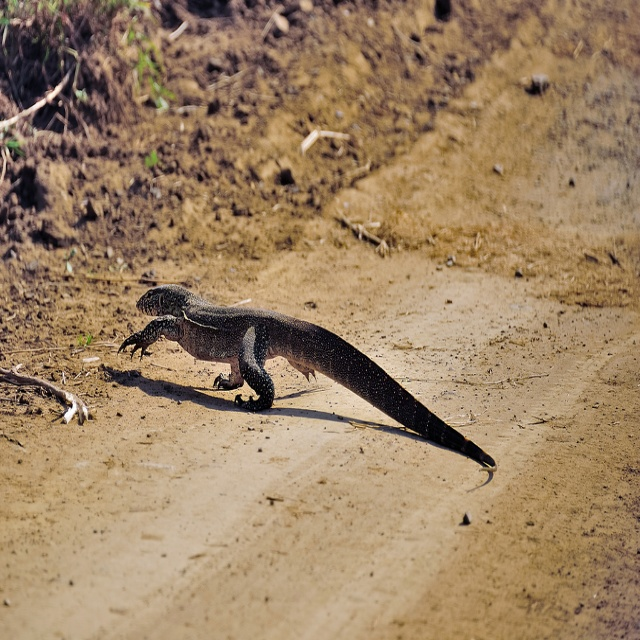Lizard: (121, 284, 497, 459)
